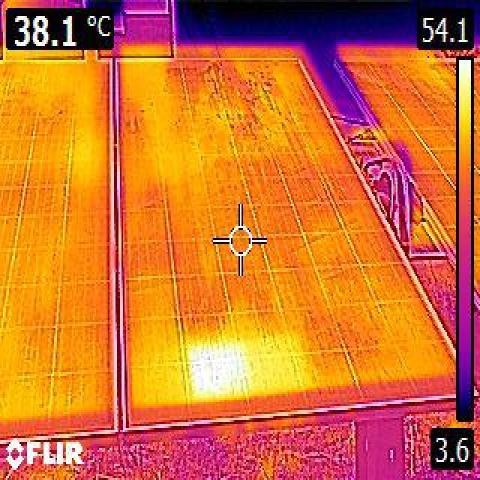fault: (188, 347, 244, 400)
